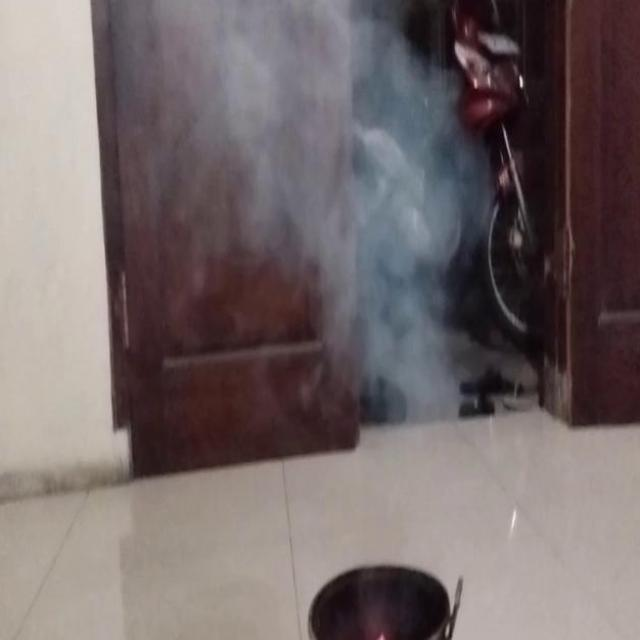fire: (116, 0, 495, 422)
